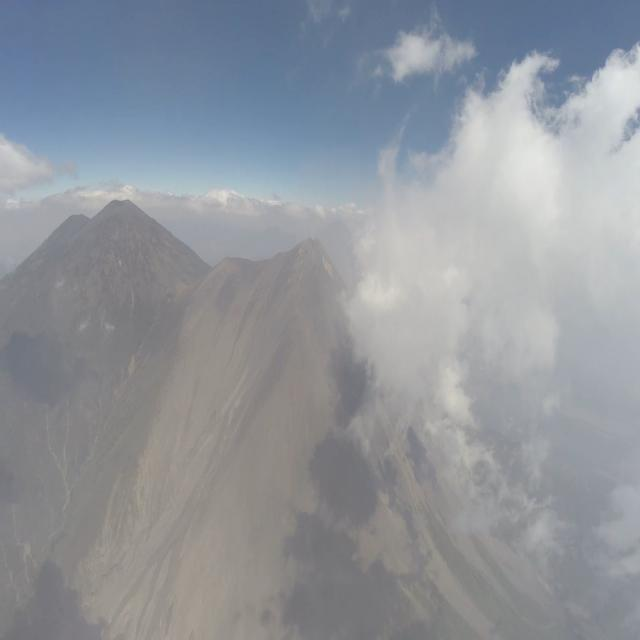Summit: (272, 230, 346, 278)
